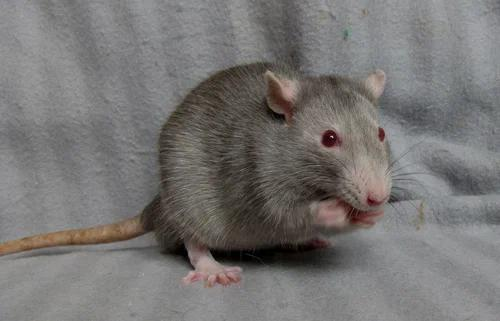rat: (0, 62, 392, 287)
